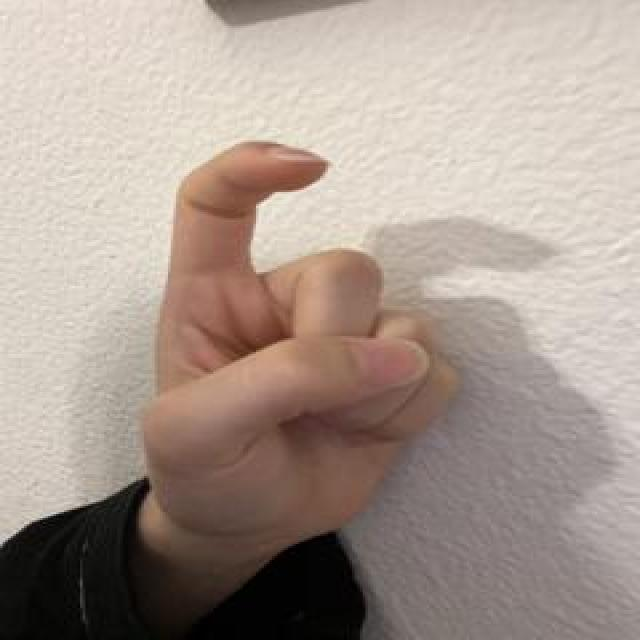X: (128, 129, 467, 545)
